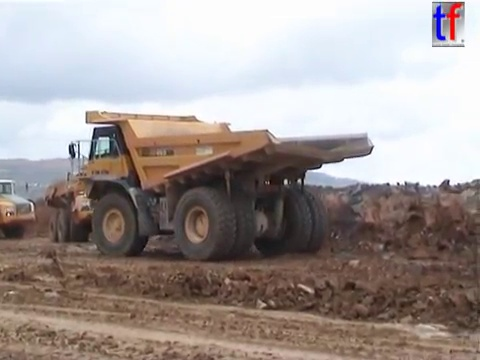truck: (65, 107, 376, 264), (44, 164, 148, 245), (1, 175, 39, 242)
